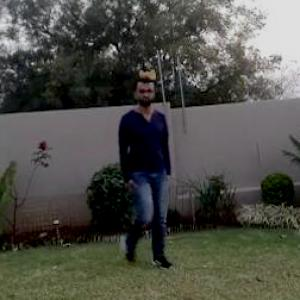follow: (111, 77, 175, 264)
